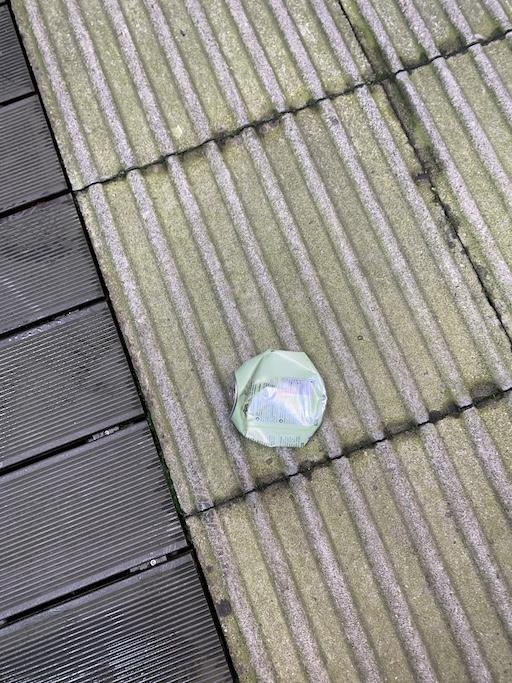Aluminum can: (228, 344, 340, 449)
